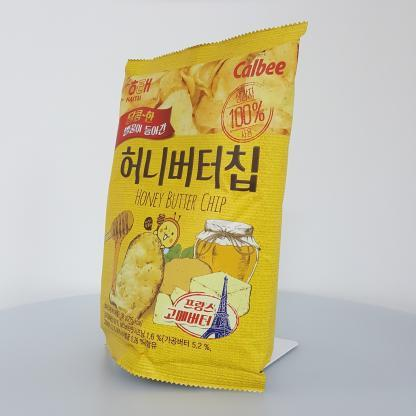Plastic Packaging: (92, 17, 314, 395)
